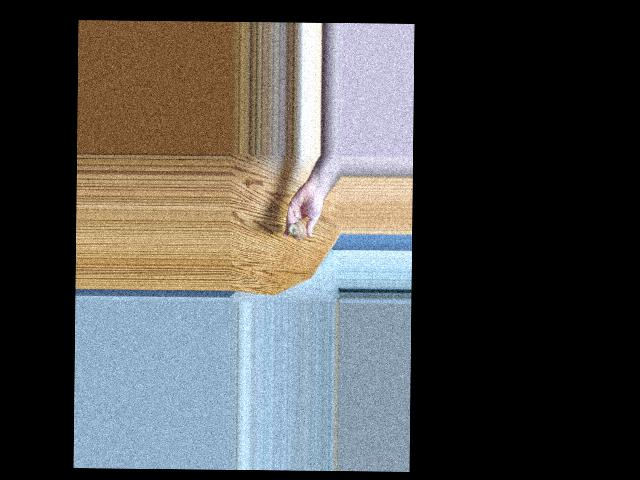sweet_potato: (289, 222, 307, 241)
